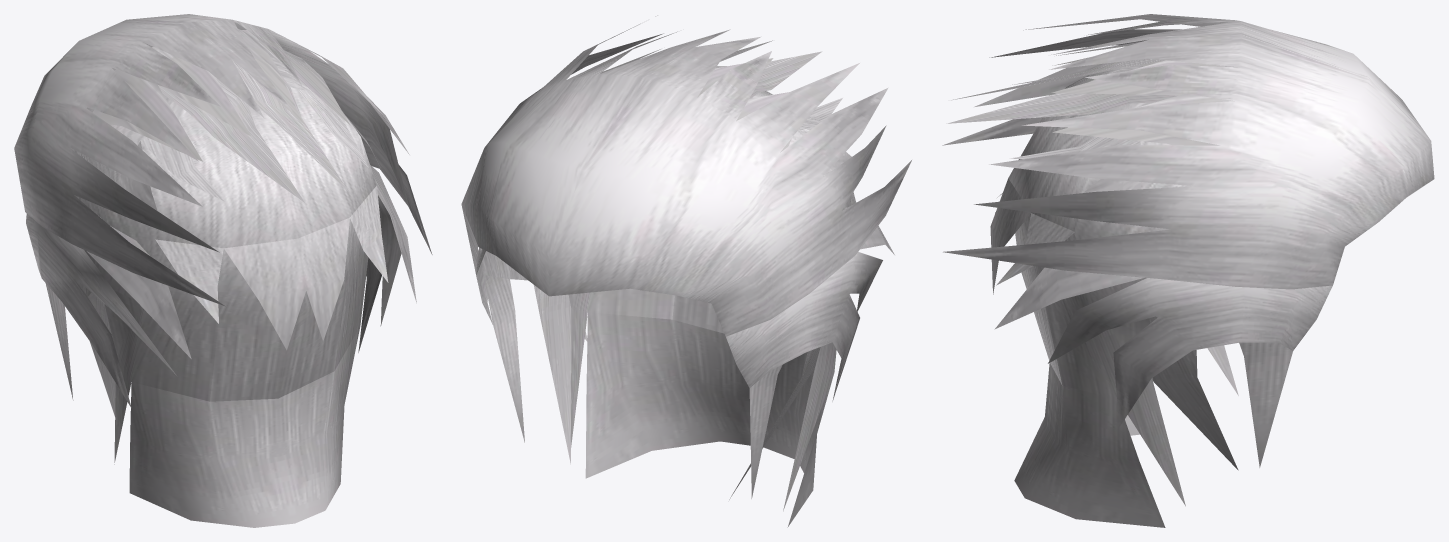
Rendered from Martial arts male hair 31.glb.
3 renders of one model, left to right at view 1: azimuth 30°, elevation 25°; view 2: azimuth 150°, elevation 25°; view 3: azimuth 270°, elevation 25°, orthographic. The views are drawn at different scales.
Parts seen in each view (by area): view 1: 武侠男头发32_0; view 2: 武侠男头发32_0; view 3: 武侠男头发32_0.
Boxes of the visible parts, x1,y1,x2,y2 form: 武侠男头发32_0: (14, 14, 432, 527); 武侠男头发32_0: (461, 15, 911, 527); 武侠男头发32_0: (942, 14, 1434, 527).
Bounding box in the file's own units: 0.1908 × 0.25 × 0.2511.
1 material, 1 textured.
